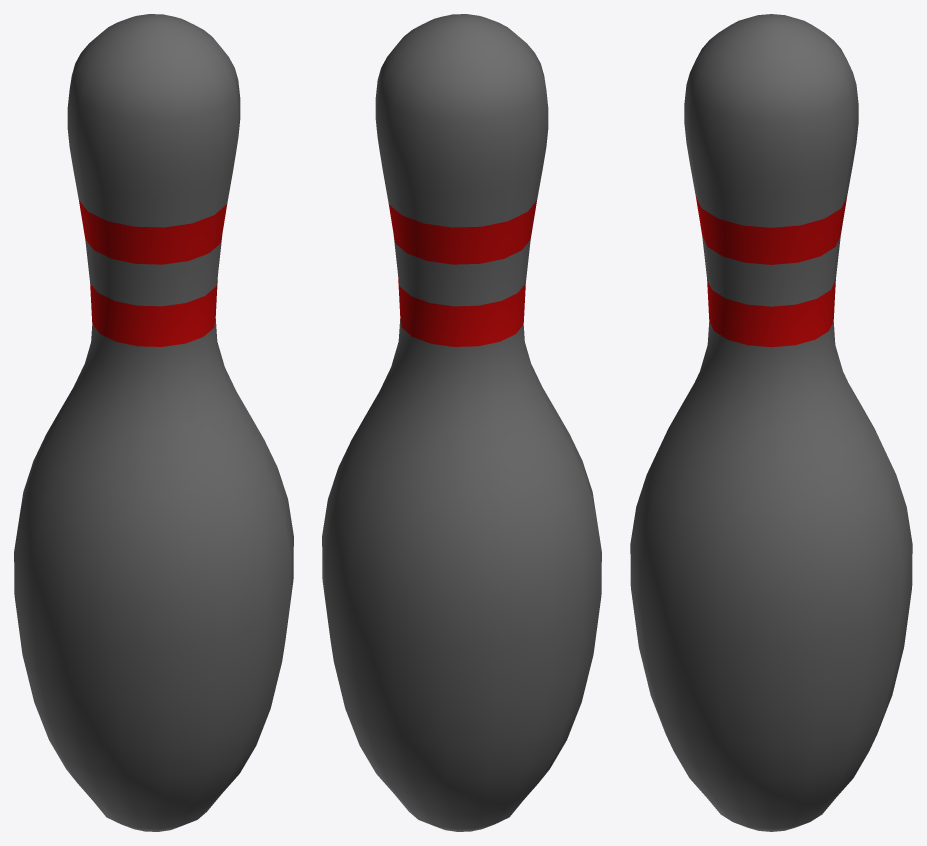
Rendered from bowling_pin.fbx.
3 views of the same model, side by side, from view 1: azimuth 30°, elevation 25°; view 2: azimuth 150°, elevation 25°; view 3: azimuth 270°, elevation 25° (orthographic).
Visible parts, largest first — view 1: Pin .007; view 2: Pin .007; view 3: Pin .007.
Boxes of the visible parts, x1,y1,x2,y2 form: Pin .007: (14, 14, 293, 831); Pin .007: (322, 14, 601, 831); Pin .007: (630, 14, 912, 831).
Size of the model in its own units: 12.19 by 38 by 12.19.
